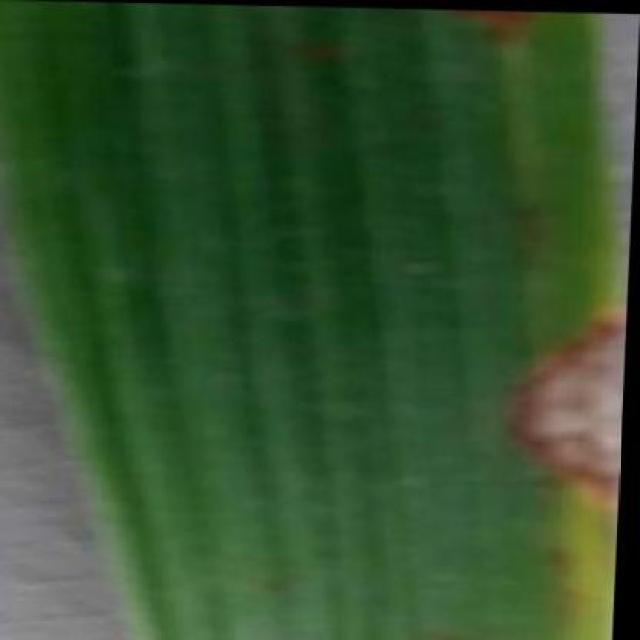Bacterial_Leaf_Blight: (477, 313, 628, 536), (396, 8, 592, 63)
